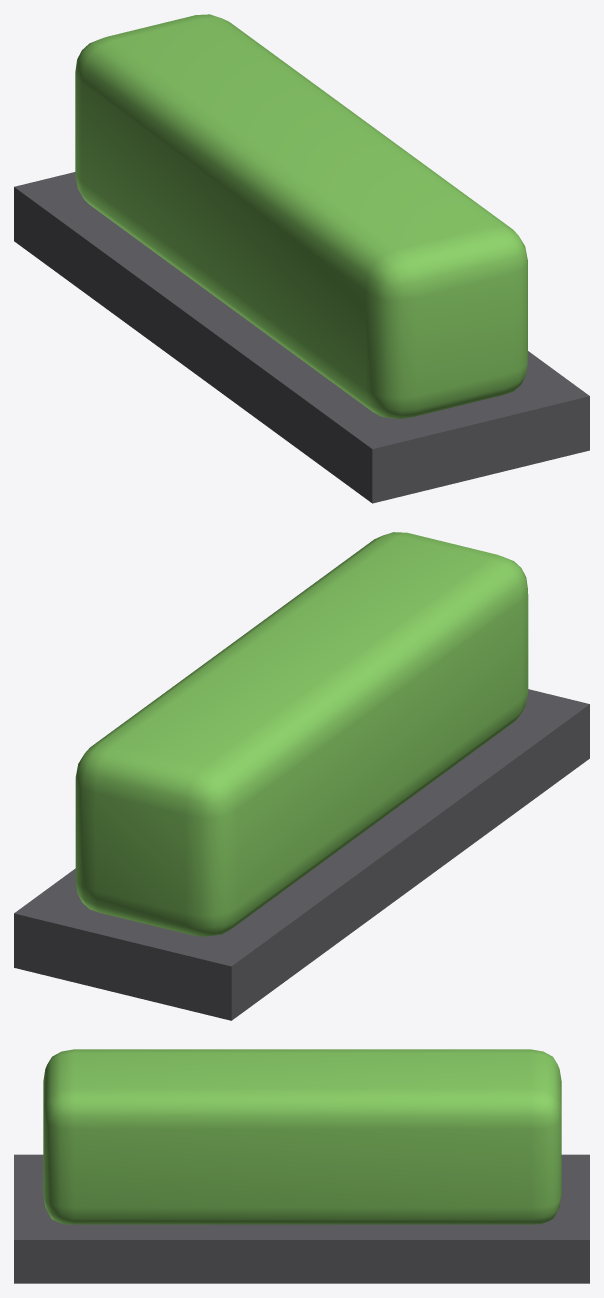
Rendered from bush_02.fbx.
The picture shows the model from 3 angles, top to bottom: view 1: azimuth 30°, elevation 25°; view 2: azimuth 150°, elevation 25°; view 3: azimuth 270°, elevation 25°; orthographic projection. The views are drawn at different scales.
Visible parts, largest first — view 1: bush_02; view 2: bush_02; view 3: bush_02.
Part boxes in pixels (box(x1,y1,x2,y2)): bush_02: box(14, 14, 589, 503); bush_02: box(14, 532, 589, 1020); bush_02: box(14, 1049, 589, 1283).
Size of the model in its own units: 1.31 by 1.22 by 3.74.
1 material, 1 textured.
